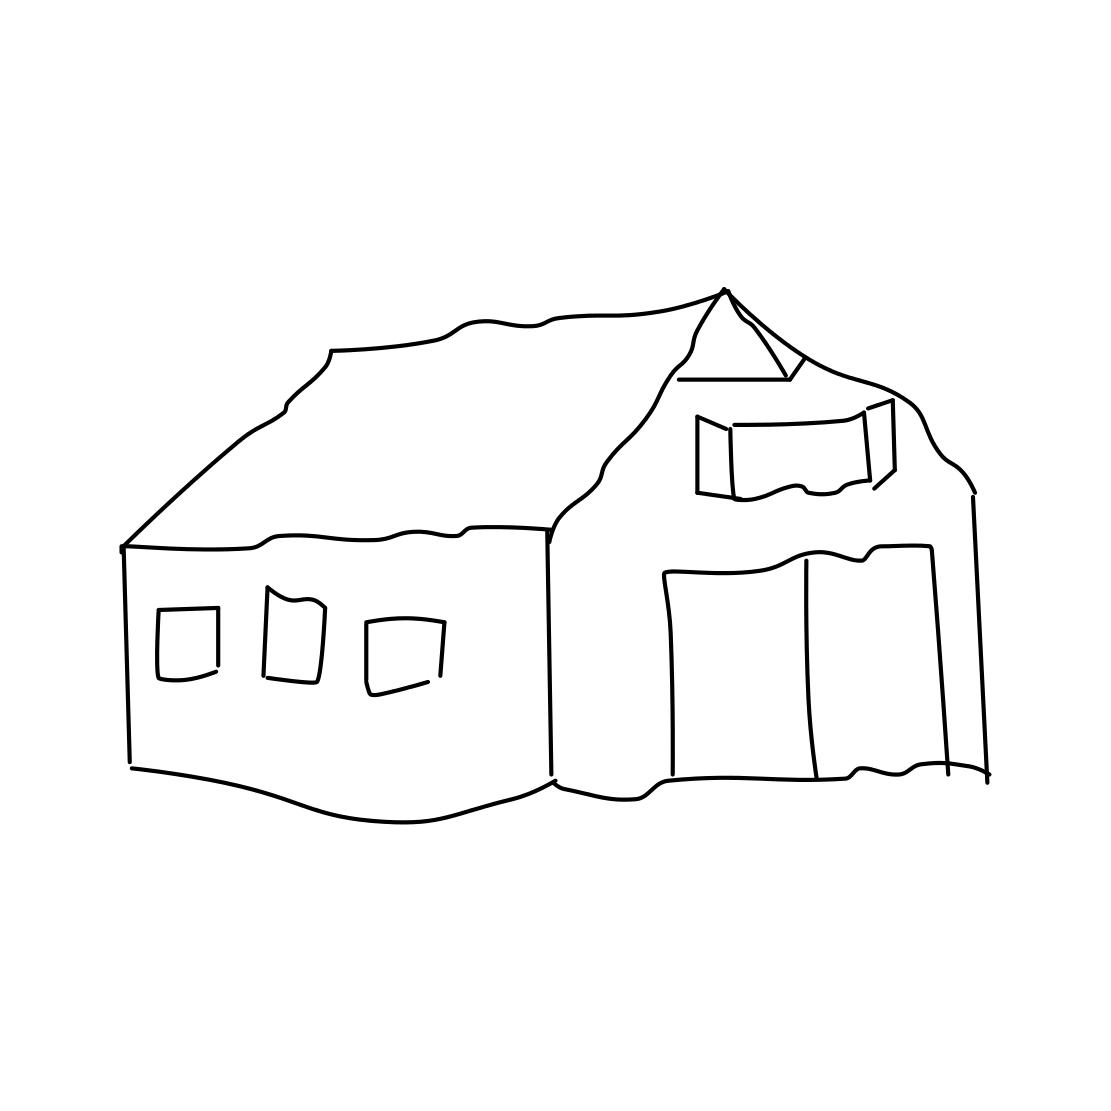House: (116, 249, 1036, 842)
